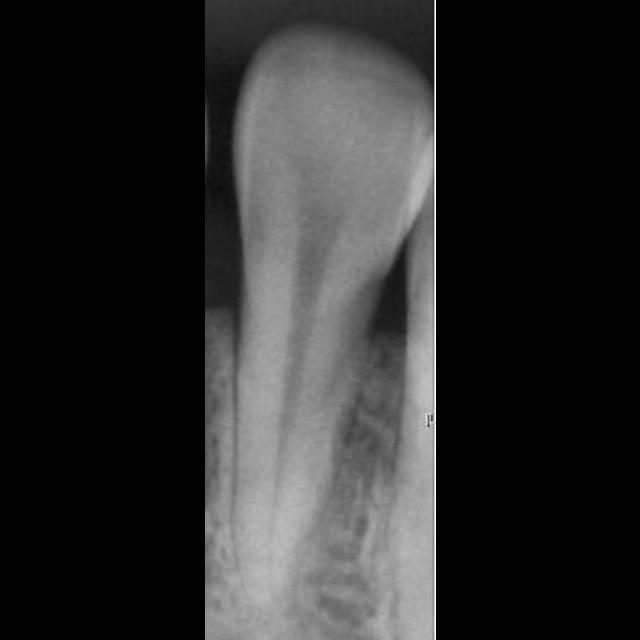tooth: (233, 34, 429, 600)
